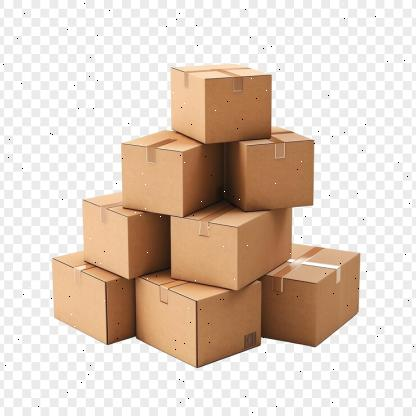box: (136, 274, 198, 366), (52, 256, 107, 346), (172, 217, 237, 292), (120, 142, 183, 218), (246, 141, 314, 211), (205, 75, 271, 144), (257, 272, 315, 345), (81, 198, 130, 280)
